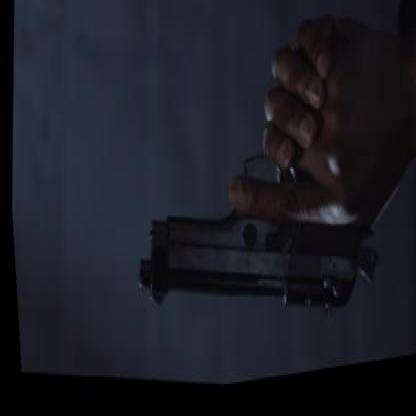pistol: (122, 27, 395, 366)
